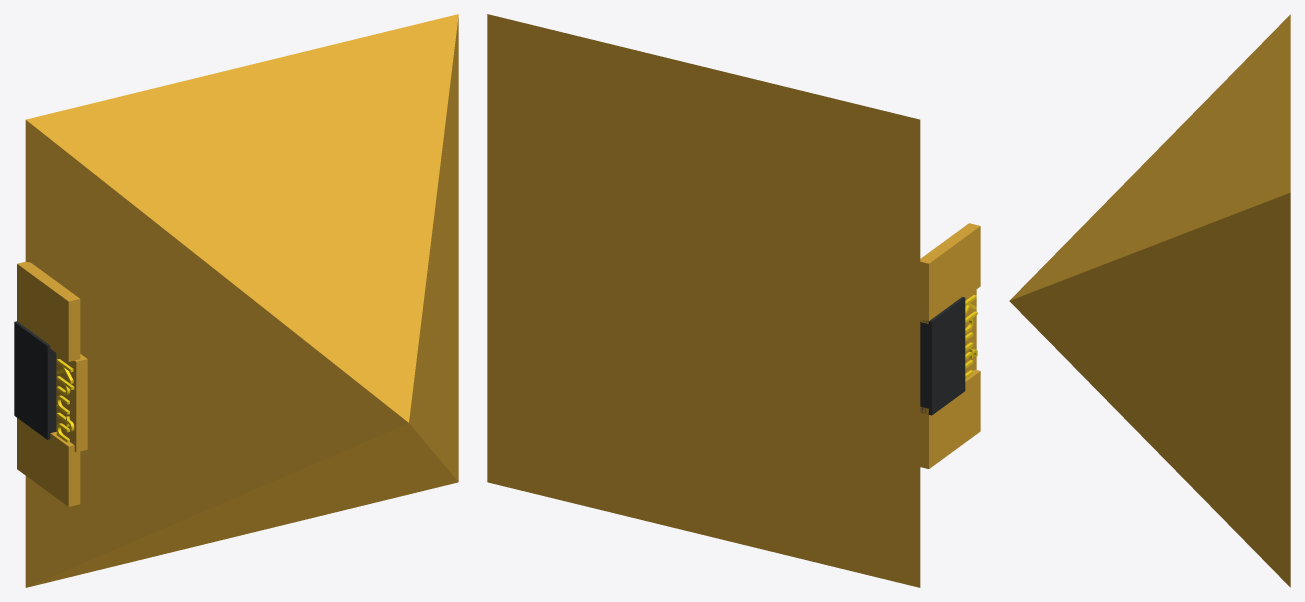
The model's file is tinker.obj.
The picture shows the model from 3 angles, left to right: view 1: azimuth 30°, elevation 25°; view 2: azimuth 150°, elevation 25°; view 3: azimuth 270°, elevation 25°; orthographic projection. The views are drawn at different scales.
Parts seen in each view (by area): view 1: obj_0, obj_1, obj_4, obj_2, obj_3, obj_5; view 2: obj_0, obj_4, obj_1, obj_2; view 3: obj_0.
Part boxes in pixels (left/top/right/bottom): obj_0: left=25, top=14, right=458, bottom=587; obj_1: left=17, top=261, right=80, bottom=361; obj_4: left=14, top=321, right=56, bottom=439; obj_2: left=17, top=418, right=80, bottom=506; obj_3: left=56, top=353, right=87, bottom=452; obj_5: left=56, top=359, right=74, bottom=442; obj_0: left=487, top=14, right=920, bottom=587; obj_4: left=920, top=297, right=965, bottom=415; obj_1: left=917, top=223, right=980, bottom=323; obj_2: left=917, top=369, right=980, bottom=468; obj_0: left=1009, top=14, right=1290, bottom=587.
Size of the model in its own units: 154 by 155 by 100.
